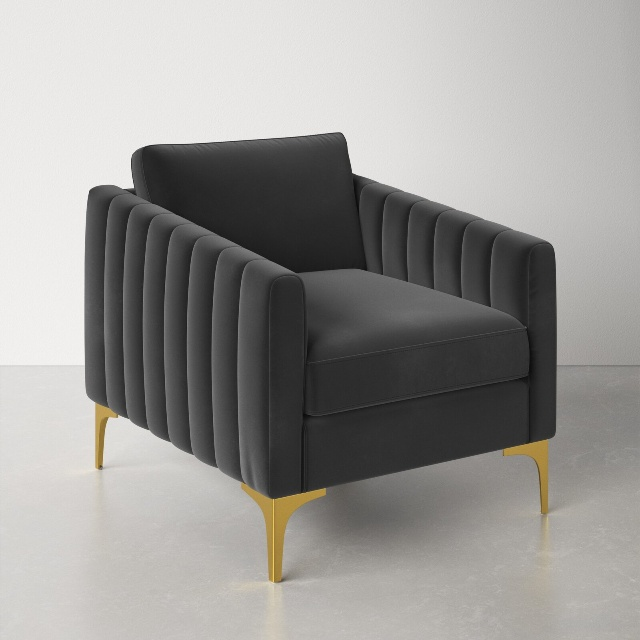obstacle: (85, 133, 555, 581)
